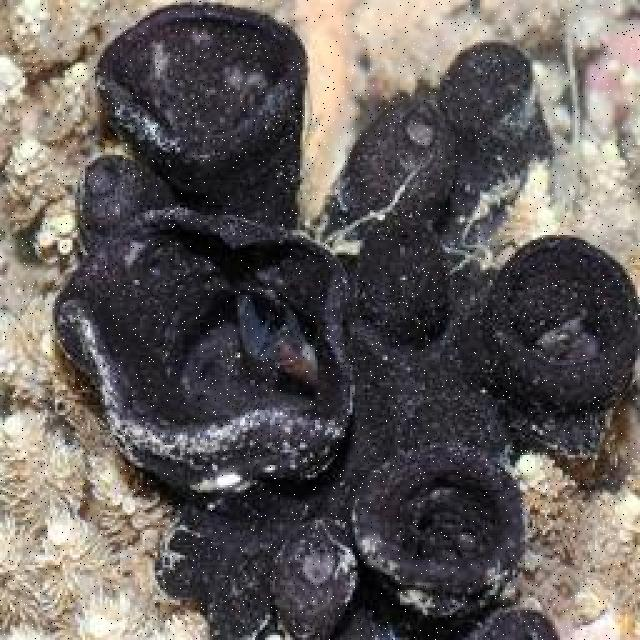reefs: (52, 2, 637, 638)
